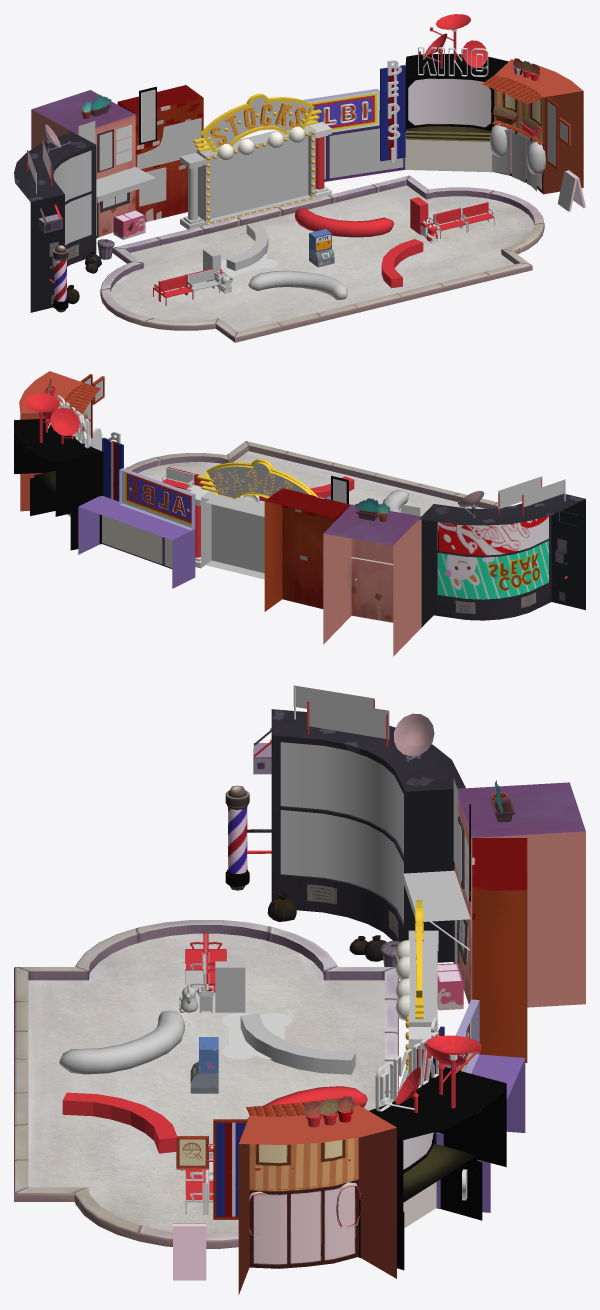
File: art_completeArenaModeFBX.2020.01.07.fbx
3 renders of one model, top to bottom at view 1: azimuth 30°, elevation 25°; view 2: azimuth 150°, elevation 25°; view 3: azimuth 270°, elevation 25°, orthographic. The views are drawn at different scales.
Parts seen in each view (by area): view 1: Circle.002, Circle.001, Cube.007, Plane.008, Plane.012, Plane.013, Cube, Cube.012, Cube.016, Cube.009, Plane.032, Cube.014 (+36 smaller); view 2: Plane.008, Cube, Cube.012, Cube.013, Plane.012, Cube.007, Circle.002, Circle.001, Cube.014, Plane.022, Plane.013, Cube.016 (+10 smaller); view 3: Circle.002, Plane.013, Plane.008, Cube, Plane.032, Circle.001, Cube.012, Plane.012, real_good_type_cylinder.072, Cube.016, Cube.086, Cube.013 (+20 smaller).
Part boxes in pixels (bbox=[...]): Circle.002: bbox=[110, 185, 533, 331]; Circle.001: bbox=[100, 175, 544, 342]; Cube.007: bbox=[196, 125, 315, 224]; Plane.008: bbox=[14, 131, 96, 312]; Plane.012: bbox=[405, 53, 508, 132]; Plane.013: bbox=[494, 59, 583, 194]; Cube: bbox=[31, 90, 135, 236]; Cube.012: bbox=[117, 85, 203, 221]; Cube.016: bbox=[405, 133, 493, 172]; Cube.009: bbox=[324, 128, 403, 179]; Plane.032: bbox=[53, 150, 91, 245]; Cube.014: bbox=[302, 88, 379, 132]; Plane.008: bbox=[419, 493, 585, 627]; Cube: bbox=[323, 504, 421, 656]; Cube.012: bbox=[264, 488, 350, 611]; Cube.013: bbox=[78, 496, 195, 588]; Plane.012: bbox=[14, 418, 103, 516]; Cube.007: bbox=[201, 491, 264, 579]; Circle.002: bbox=[138, 451, 484, 516]; Circle.001: bbox=[125, 441, 511, 508]; Cube.014: bbox=[119, 468, 195, 530]; Plane.022: bbox=[208, 463, 308, 497]; Plane.013: bbox=[19, 371, 82, 511]; Cube.016: bbox=[30, 478, 101, 550]; Circle.002: bbox=[28, 933, 384, 1233]; Plane.013: bbox=[238, 1105, 396, 1294]; Plane.008: bbox=[271, 709, 465, 962]; Cube: bbox=[454, 782, 585, 1007]; Plane.032: bbox=[280, 742, 403, 922]; Circle.001: bbox=[14, 920, 398, 1248]; Cube.012: bbox=[472, 838, 527, 1062]; Plane.012: bbox=[369, 1065, 506, 1223]; real_good_type_cylinder.072: bbox=[59, 1010, 184, 1074]; Cube.016: bbox=[358, 1161, 482, 1270]; Cube.086: bbox=[62, 1092, 176, 1153]; Cube.013: bbox=[436, 1054, 525, 1212].
Size of the model in its own units: 26327 by 6447 by 15322.
